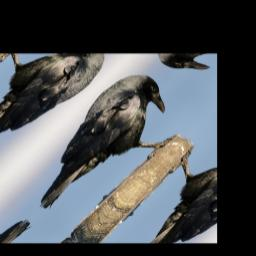Crow: (6, 64, 209, 237)
